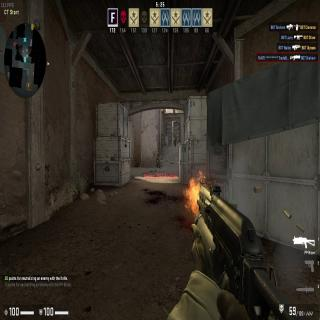T-Body: (174, 135, 176, 147)
T-Head: (174, 135, 176, 138)
